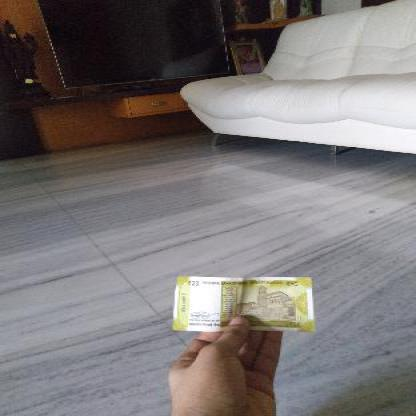New20Back: (173, 278, 315, 332)
